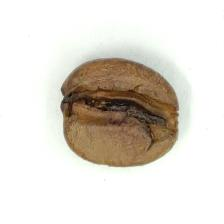NG: (68, 78, 169, 152)
